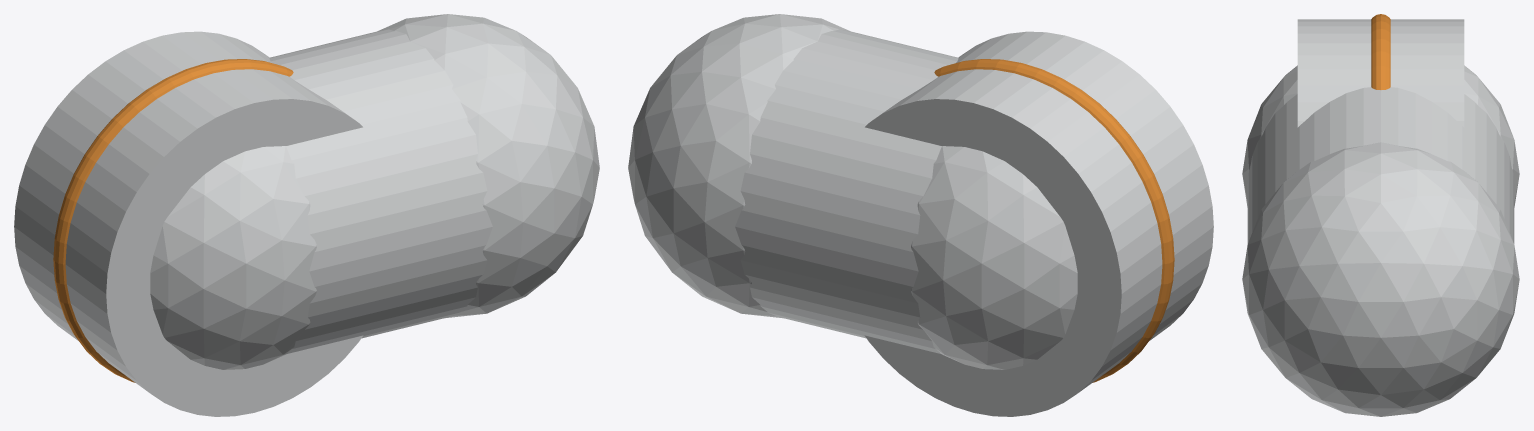
3 renders of one model, left to right at view 1: azimuth 30°, elevation 25°; view 2: azimuth 150°, elevation 25°; view 3: azimuth 270°, elevation 25°, orthographic. The views are drawn at different scales.
Parts seen in each view (by area): view 1: link5_body.stl, link5_ring.stl; view 2: link5_body.stl, link5_ring.stl; view 3: link5_body.stl, link5_ring.stl.
Boxes of the visible parts, bbox=[...] form: link5_body.stl: bbox=[14, 14, 599, 416]; link5_ring.stl: bbox=[53, 59, 293, 382]; link5_body.stl: bbox=[628, 14, 1213, 416]; link5_ring.stl: bbox=[934, 59, 1174, 382]; link5_body.stl: bbox=[1242, 19, 1519, 416]; link5_ring.stl: bbox=[1371, 14, 1390, 89].
Bounding box in the file's own units: 0.2507 × 0.1464 × 0.1269.
